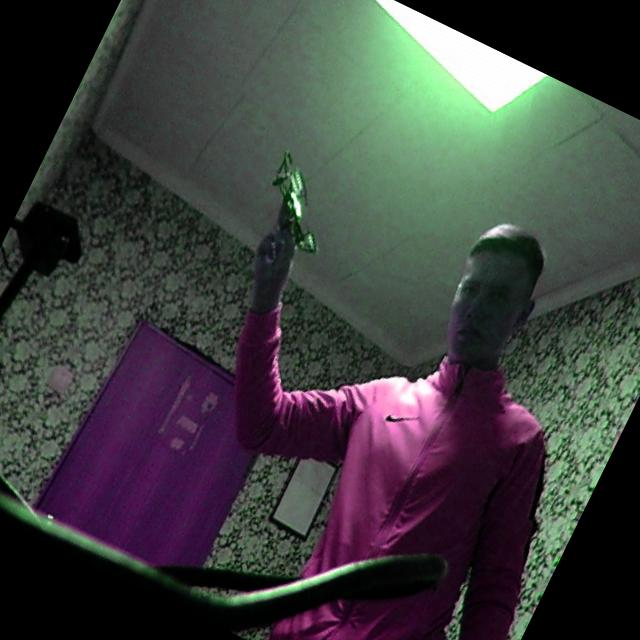drone: (222, 120, 375, 288)
